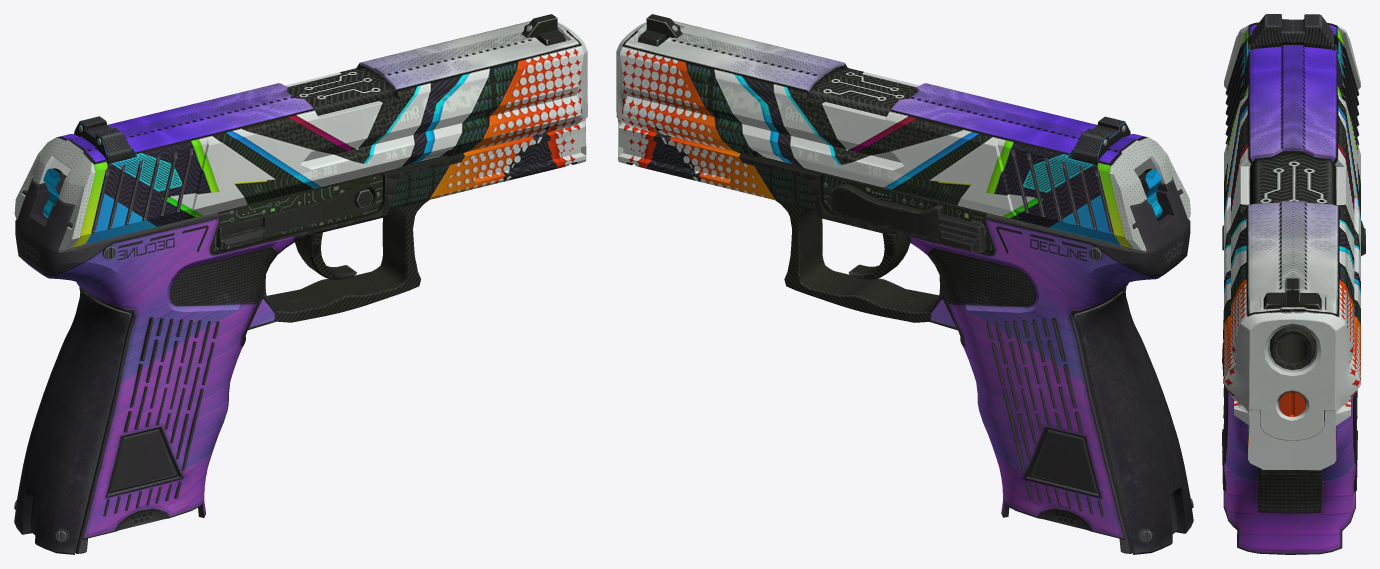
The model's file is w_combatpistol_decline.glb.
The picture shows the model from 3 angles, left to right: view 1: azimuth 30°, elevation 25°; view 2: azimuth 150°, elevation 25°; view 3: azimuth 270°, elevation 25°; orthographic projection. The views are drawn at different scales.
Visible parts, largest first — view 1: Gun_Root; view 2: Gun_Root; view 3: Gun_Root.
Boxes of the visible parts, left/top/right/bottom form: Gun_Root: left=14, top=14, right=587, bottom=554; Gun_Root: left=616, top=14, right=1193, bottom=554; Gun_Root: left=1222, top=14, right=1365, bottom=554.
Size of the model in its own units: 0.1807 by 0.1262 by 0.034.
Materials: 1 (1 with a texture image).
